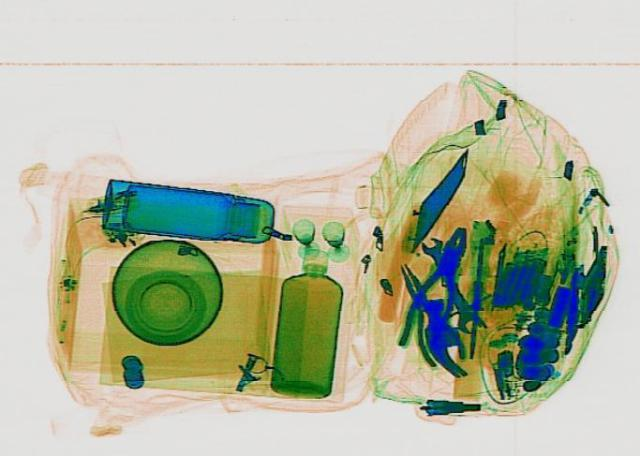Pliers: (394, 222, 482, 348), (381, 258, 469, 365)
Wrench: (415, 234, 483, 332)
